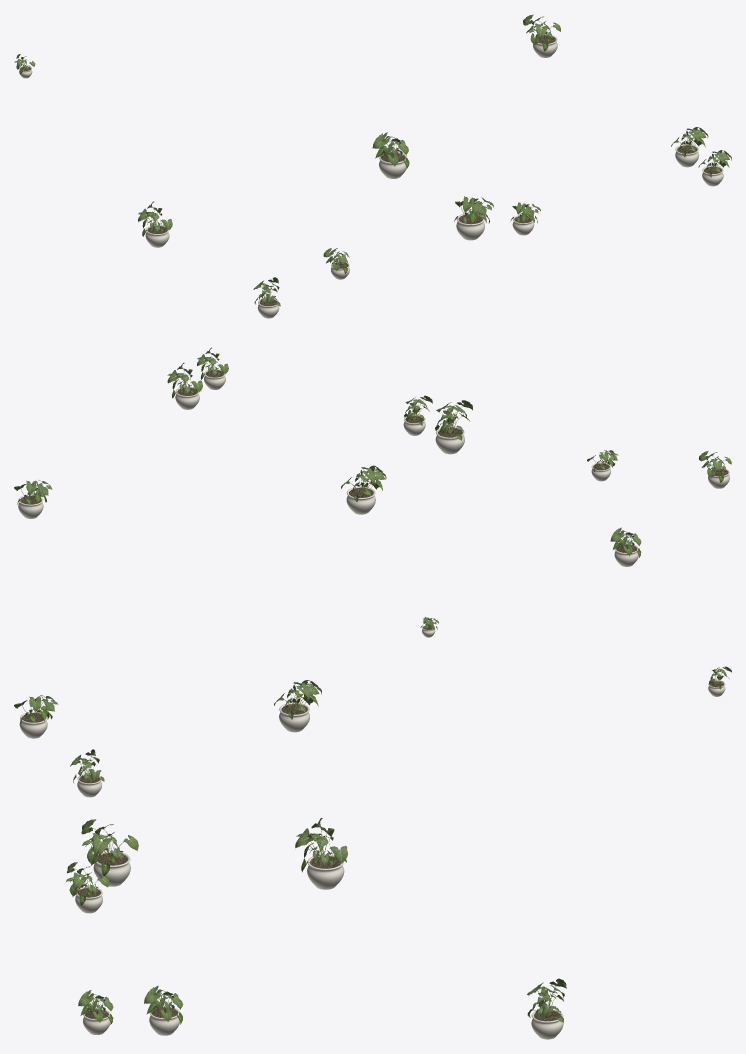
The model's file is PLANTS.glb.
The picture shows the model from 3 angles, top to bottom: view 1: azimuth 30°, elevation 25°; view 2: azimuth 150°, elevation 25°; view 3: azimuth 270°, elevation 25°; orthographic projection. The views are drawn at different scales.
Visible parts, largest first — view 1: WEBPLANT_01, WEBPLANT_00, WEBPLANT_03, WEBPLANT_09, WEBPLANT_04, WEBPLANT_08, WEBPLANT_06, WEBPLANT_07, WEBPLANT_02; view 2: WEBPLANT_01, WEBPLANT_00, WEBPLANT_04, WEBPLANT_09, WEBPLANT_03, WEBPLANT_08, WEBPLANT_06, WEBPLANT_07, WEBPLANT_02; view 3: WEBPLANT_01, WEBPLANT_00, WEBPLANT_09, WEBPLANT_03, WEBPLANT_04, WEBPLANT_07, WEBPLANT_08, WEBPLANT_06, WEBPLANT_02.
Part boxes in pixels (box(x1,y1,x2,y2)): WEBPLANT_01: box(372, 132, 409, 178); WEBPLANT_00: box(454, 196, 493, 240); WEBPLANT_03: box(138, 201, 172, 247); WEBPLANT_09: box(523, 14, 560, 57); WEBPLANT_04: box(671, 127, 708, 167); WEBPLANT_08: box(698, 150, 731, 186); WEBPLANT_06: box(253, 277, 280, 318); WEBPLANT_07: box(510, 202, 540, 235); WEBPLANT_02: box(323, 248, 349, 279); WEBPLANT_01: box(341, 465, 386, 514); WEBPLANT_00: box(435, 400, 472, 454); WEBPLANT_04: box(167, 362, 202, 409); WEBPLANT_09: box(14, 480, 52, 518); WEBPLANT_03: box(610, 527, 641, 566); WEBPLANT_08: box(197, 347, 228, 389); WEBPLANT_06: box(699, 451, 731, 488); WEBPLANT_07: box(403, 395, 432, 435); WEBPLANT_02: box(587, 450, 618, 481); WEBPLANT_01: box(295, 818, 347, 889); WEBPLANT_00: box(81, 819, 138, 886); WEBPLANT_09: box(527, 978, 566, 1039); WEBPLANT_03: box(274, 680, 321, 732); WEBPLANT_04: box(144, 985, 183, 1035); WEBPLANT_07: box(66, 862, 109, 913); WEBPLANT_08: box(78, 990, 113, 1034); WEBPLANT_06: box(14, 695, 58, 738); WEBPLANT_02: box(70, 749, 104, 797).
Bounding box in the file's own units: 11.81 × 1.36 × 10.94.
Materials: 3 (2 with a texture image).
